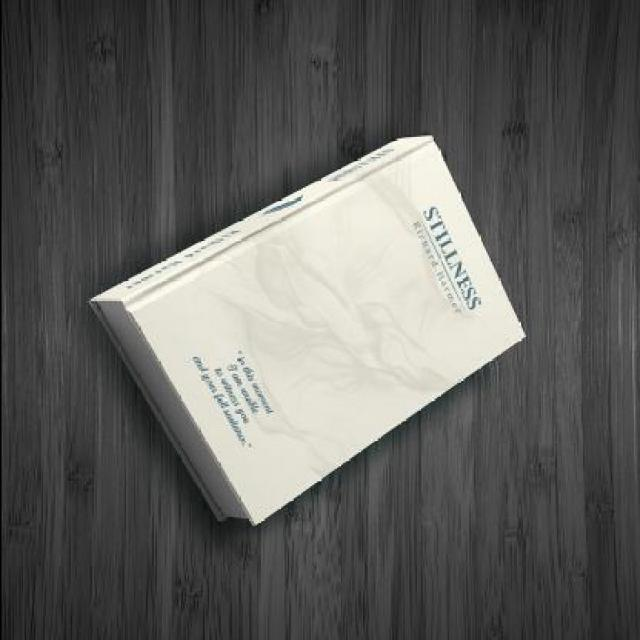book: (64, 91, 562, 551)
